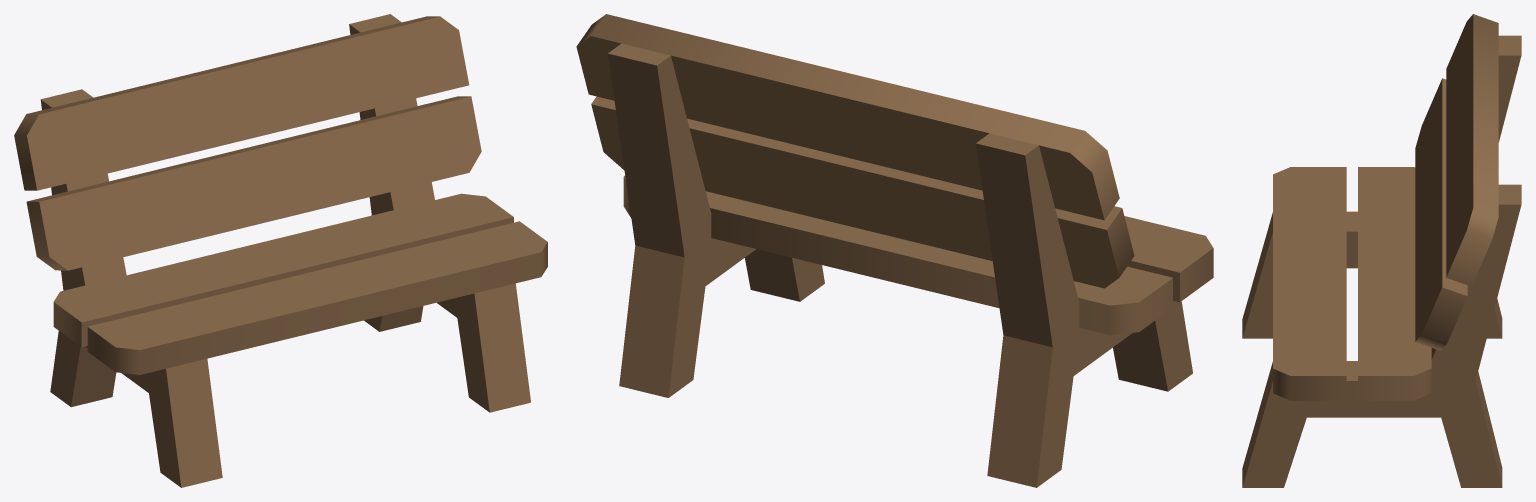
The model's file is bench.glb.
3 renders of one model, left to right at view 1: azimuth 30°, elevation 25°; view 2: azimuth 150°, elevation 25°; view 3: azimuth 270°, elevation 25°, orthographic. The views are drawn at different scales.
Visible parts, largest first — view 1: bench; view 2: bench; view 3: bench.
Boxes of the visible parts, x1,y1,x2,y2 form: bench: (14, 14, 547, 487); bench: (576, 14, 1213, 487); bench: (1242, 14, 1521, 487).
Bounding box in the file's own units: 1.8 × 1.17 × 1.02.
